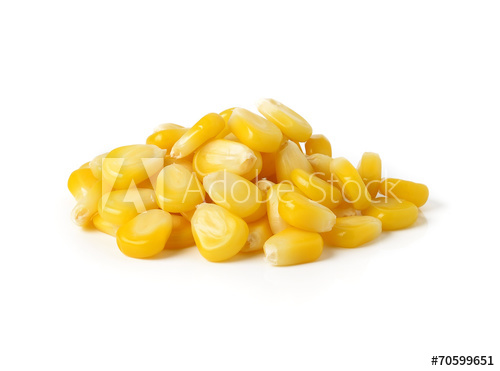corn: (190, 202, 249, 262), (117, 206, 180, 262), (224, 103, 287, 152), (172, 107, 224, 161), (263, 231, 325, 269), (328, 211, 383, 248)
